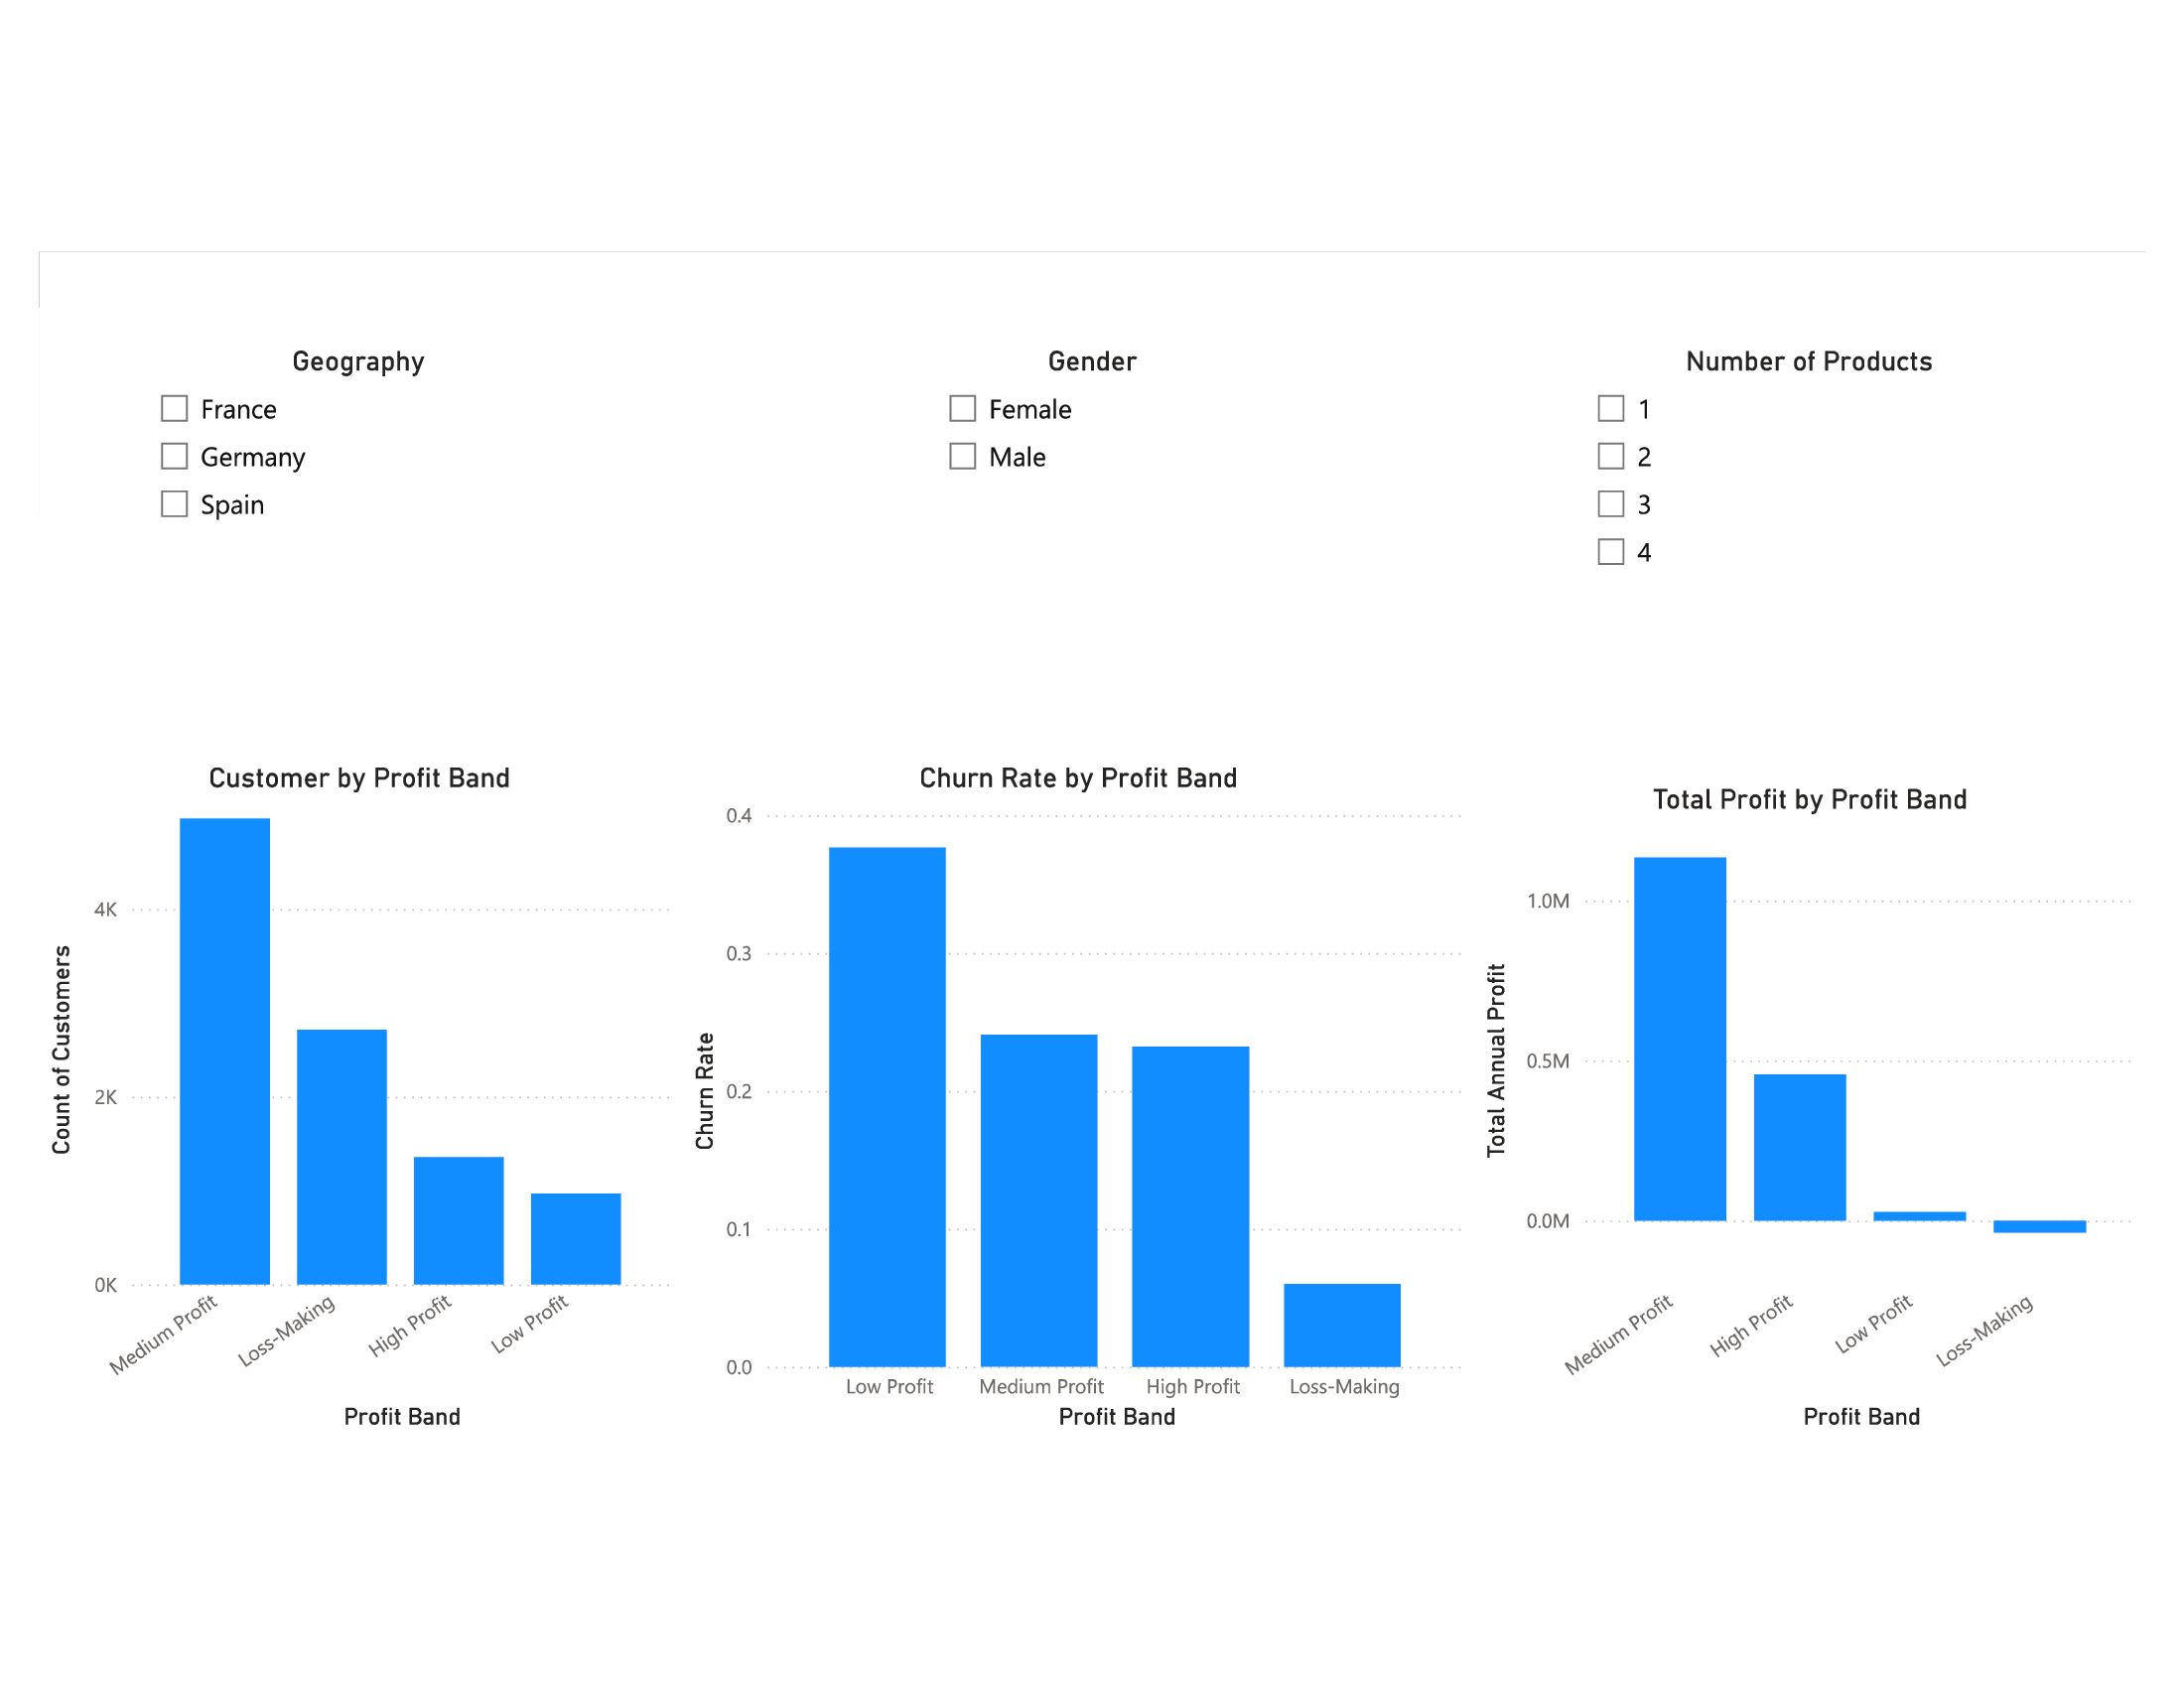

The dashboard page shown, as its layout file describes it:
{"tool":"powerbi","page":{"name":"Churn Risk and Retention Actions","canvas":[1280,720],"ordinal":2},"visuals":[{"type":"clusteredColumnChart","title":"Customer by Profit Band","fields":{"Category":["bank_analytics vw_profitability.Profit Band"],"Y":["CountNonNull(bank_analytics vw_profitability.customer_id)"]},"box":[0,308.8,389,410.9],"z":0},{"type":"clusteredColumnChart","fields":{"Category":["bank_analytics vw_profitability.Profit Band"],"Y":["bank_analytics vw_customer_profile.Churn Rate"]},"box":[391.4,308.8,480.2,410.9],"z":1000},{"type":"clusteredColumnChart","title":"Total Profit by Profit Band","fields":{"Y":["bank_analytics vw_profitability.Total Annual Profit"],"Category":["bank_analytics vw_profitability.Profit Band"]},"box":[871.6,322.1,408.4,397.5],"z":2000},{"type":"slicer","title":"Geography","fields":{"Values":["bank_analytics vw_customer_profile.geography"]},"box":[60.8,55.9,266.2,177.5],"z":3000},{"type":"slicer","title":"Gender","fields":{"Values":["bank_analytics vw_customer_profile.gender"]},"box":[539.7,55.9,200.6,137.4],"z":4000},{"type":"slicer","title":"Number of Products","fields":{"Values":["bank_analytics vw_customer_profile.num_of_products"]},"box":[933.6,55.9,283.2,224.9],"z":5000}]}

Visuals, with their boxes on the page's 1280x720 design canvas (x1, y1, x2, y2). These are canvas units, not pixel positions in the 2184x1688 screenshot, which may show the page scaled, cropped or inside an application window:
"Customer by Profit Band" clusteredColumnChart: box=[0, 309, 389, 720]
clusteredColumnChart - bank_analytics vw_profitability.Profit Band x bank_analytics vw_customer_profile.Churn Rate: box=[391, 309, 872, 720]
"Total Profit by Profit Band" clusteredColumnChart: box=[872, 322, 1280, 720]
"Geography" slicer: box=[61, 56, 327, 233]
"Gender" slicer: box=[540, 56, 740, 193]
"Number of Products" slicer: box=[934, 56, 1217, 281]
